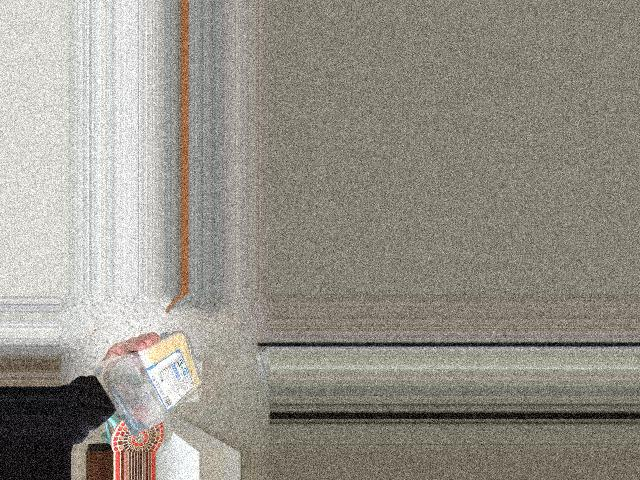cheese: (109, 343, 209, 436)
